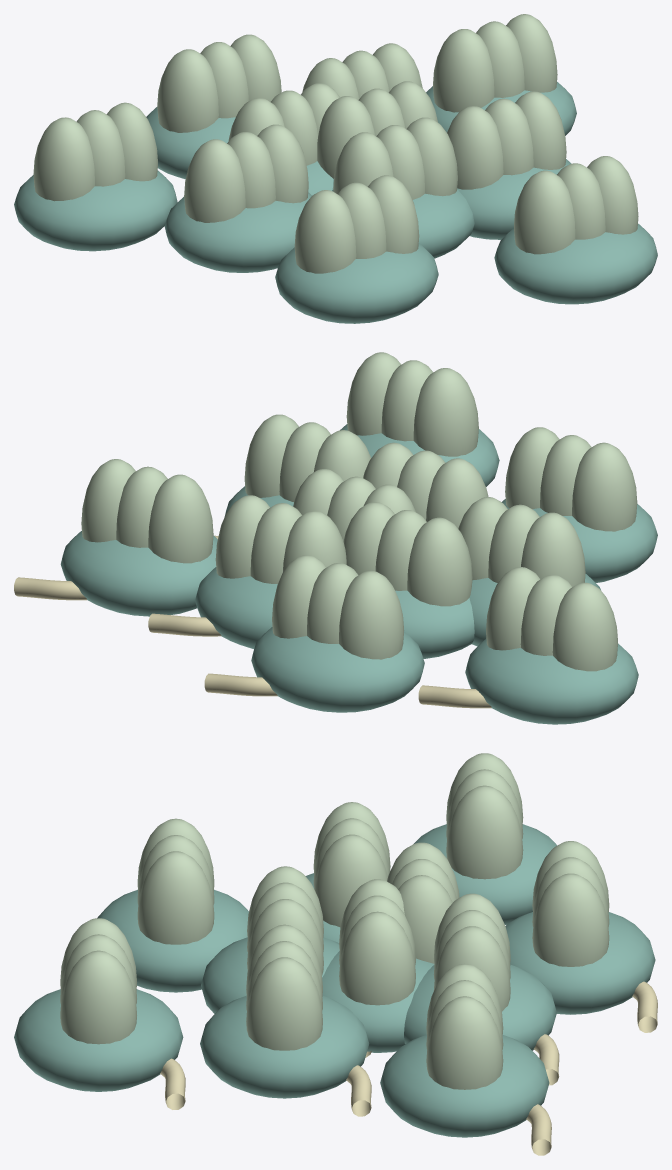
Rendered from bio_acid_mat_06_near.glb.
The picture shows the model from 3 angles, top to bottom: view 1: azimuth 30°, elevation 25°; view 2: azimuth 150°, elevation 25°; view 3: azimuth 270°, elevation 25°; orthographic projection. The views are drawn at different scales.
Parts seen in each view (by area): view 1: Reaction vesicle.021, Reaction vesicle.012, Reaction vesicle.030, Reaction vesicle.027, Reaction vesicle.024, Microbial cushion.010, Microbial cushion.007, Microbial cushion.009, Reaction vesicle.018, Reaction vesicle.015, Microbial cushion.004, Reaction vesicle.006 (+8 smaller); view 2: Reaction vesicle.027, Reaction vesicle.018, Reaction vesicle.024, Reaction vesicle.030, Reaction vesicle.021, Microbial cushion.006, Microbial cushion.009, Reaction vesicle.003, Microbial cushion.008, Reaction vesicle.009, Reaction vesicle.012, Reaction vesicle.015 (+11 smaller); view 3: Microbial cushion.008, Microbial cushion.010, Microbial cushion.005, Reaction vesicle.021, Reaction vesicle.024, Reaction vesicle.015, Reaction vesicle.018, Reaction vesicle.027, Reaction vesicle.030, Reaction vesicle, Microbial cushion.006, Microbial cushion.007 (+13 smaller).
Part boxes in pixels (x1,y1,x2,y2): Reaction vesicle.021: (294, 175, 419, 273); Reaction vesicle.012: (184, 124, 308, 222); Reaction vesicle.030: (514, 156, 638, 254); Reaction vesicle.027: (33, 102, 157, 201); Reaction vesicle.024: (433, 14, 557, 112); Microbial cushion.010: (494, 223, 657, 304); Microbial cushion.007: (275, 243, 438, 323); Microbial cushion.009: (14, 170, 177, 251); Reaction vesicle.018: (157, 34, 281, 132); Reaction vesicle.015: (447, 91, 566, 189); Microbial cushion.004: (164, 192, 312, 272); Reaction vesicle.006: (333, 117, 457, 199); Reaction vesicle.027: (486, 567, 617, 671); Reaction vesicle.018: (272, 555, 404, 659); Reaction vesicle.024: (81, 459, 213, 563); Reaction vesicle.030: (346, 352, 478, 456); Reaction vesicle.021: (505, 427, 637, 531); Microbial cushion.006: (251, 627, 424, 712); Microbial cushion.009: (465, 639, 638, 724); Reaction vesicle.003: (343, 502, 472, 606); Microbial cushion.008: (60, 531, 217, 616); Reaction vesicle.009: (215, 495, 346, 583); Reaction vesicle.012: (458, 497, 585, 586); Reaction vesicle.015: (244, 414, 371, 501); Microbial cushion.008: (380, 1035, 549, 1137); Microbial cushion.010: (14, 989, 183, 1091); Microbial cushion.005: (200, 995, 369, 1098); Reaction vesicle.021: (137, 818, 214, 944); Reaction vesicle.024: (426, 964, 503, 1089); Reaction vesicle.015: (246, 924, 322, 1050); Reaction vesicle.018: (532, 841, 609, 966); Reaction vesicle.027: (446, 753, 523, 879); Reaction vesicle.030: (60, 918, 137, 1044); Reaction vesicle: (339, 879, 415, 1005); Microbial cushion.006: (505, 912, 655, 1014); Microbial cushion.007: (97, 889, 248, 992).
Bounding box in the file's own units: 1.83 × 0.4 × 1.67.
